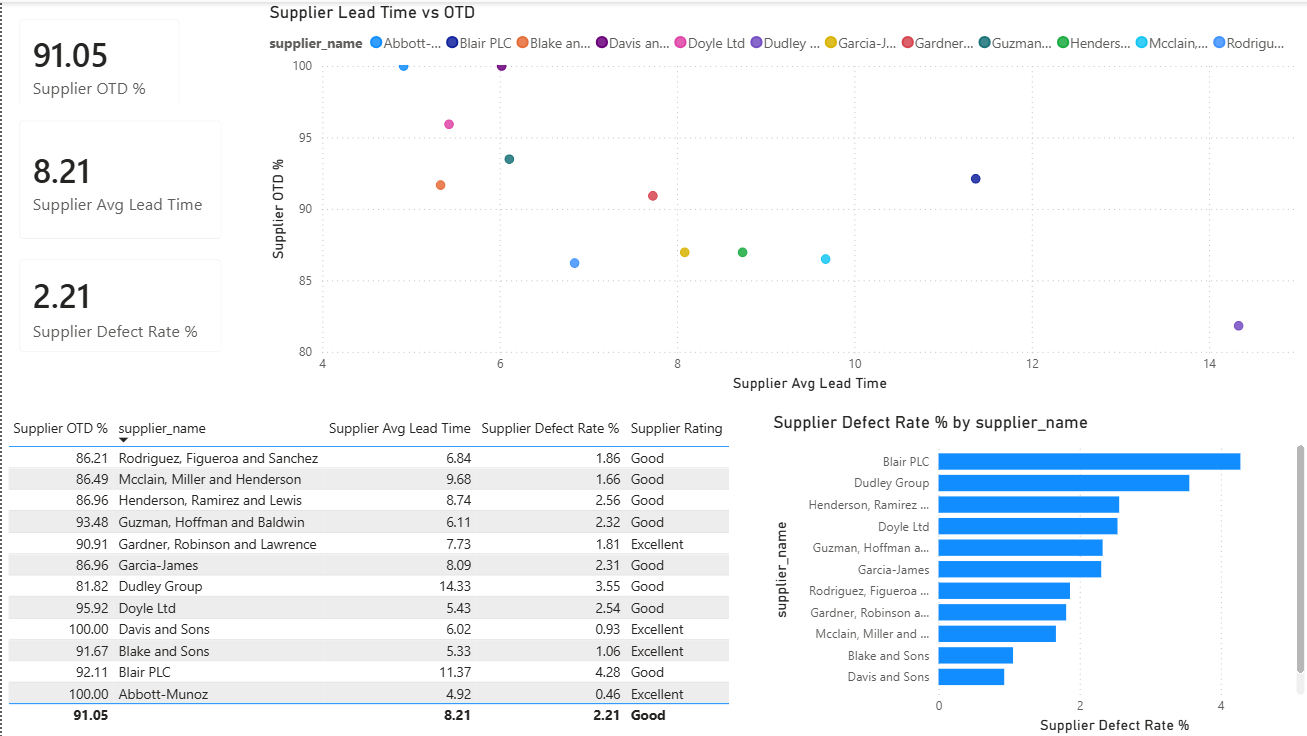

What the dashboard file says about the page in this screenshot:
{"tool":"powerbi","page":{"name":"Supplier","canvas":[1280,720],"ordinal":2},"visuals":[{"type":"cardVisual","fields":{"Data":["_Measures.Supplier OTD %"]},"box":[0,0,191.9,121.6],"z":0},{"type":"cardVisual","fields":{"Data":["_Measures.Supplier Avg Lead Time"]},"box":[0,99.6,232.9,150.8],"z":1000},{"type":"cardVisual","fields":{"Data":["_Measures.Supplier Defect Rate %"]},"box":[0,234.5,232.7,125.6],"z":2000},{"type":"tableEx","fields":{"Values":["_Measures.Supplier OTD %","suppliers.supplier_name","_Measures.Supplier Avg Lead Time","_Measures.Supplier Defect Rate %","_Measures.Supplier Rating"]},"box":[0,400.7,725.7,319.5],"z":3000},{"type":"scatterChart","title":"Supplier Lead Time vs OTD","fields":{"X":["_Measures.Supplier Avg Lead Time"],"Y":["_Measures.Supplier OTD %"],"Series":["suppliers.supplier_name"]},"box":[256.7,0,1023,385.9],"z":4000},{"type":"clusteredBarChart","fields":{"Category":["suppliers.supplier_name"],"Y":["_Measures.Supplier Defect Rate %"]},"box":[749.7,400.7,530,319.5],"z":5000}]}

Visuals, with their boxes in screenshot pixels (x1, y1, x2, y2), scaled from the page's 1280x720 canvas onto the 1307x736 screenshot:
cardVisual - _Measures.Supplier OTD %: BBox(0, 0, 196, 124)
cardVisual - _Measures.Supplier Avg Lead Time: BBox(0, 102, 238, 256)
cardVisual - _Measures.Supplier Defect Rate %: BBox(0, 240, 238, 368)
tableEx - _Measures.Supplier OTD % x suppliers.supplier_name: BBox(0, 410, 741, 735)
"Supplier Lead Time vs OTD" scatterChart: BBox(262, 0, 1306, 394)
clusteredBarChart - suppliers.supplier_name x _Measures.Supplier Defect Rate %: BBox(766, 410, 1306, 735)
